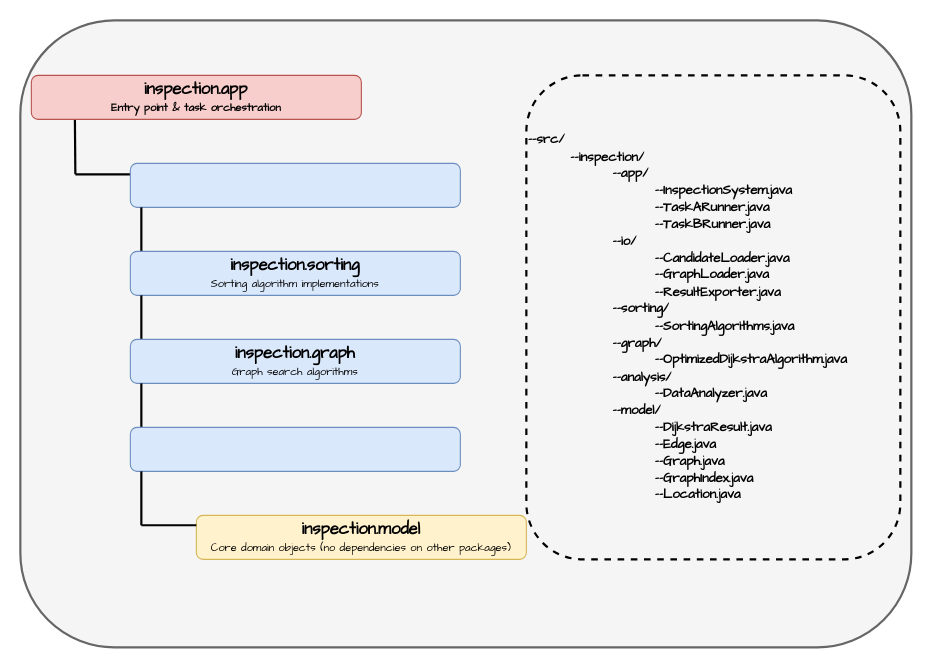
Some shapes in this 931 by 667 pixel diagram are drawn without their labels. The shapes that lost their labels are listed below. From the top down, each one's centre as x and y in pixels, then its label:
(x=294, y=184): inspection.io CSV reading and writing
(x=294, y=448): inspection.analysis Dataset analysis utilities
